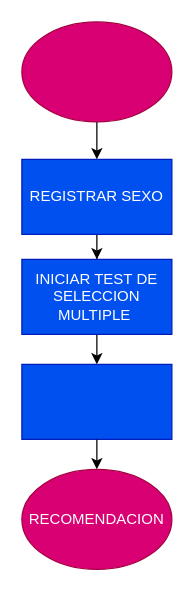
Some shapes in this 194 by 591 pixel diagram are drawn without their labels. Each missing label, with the box of its shape:
RESULTADO: (21, 363, 172, 439)
USUARIO: (21, 21, 172, 122)
